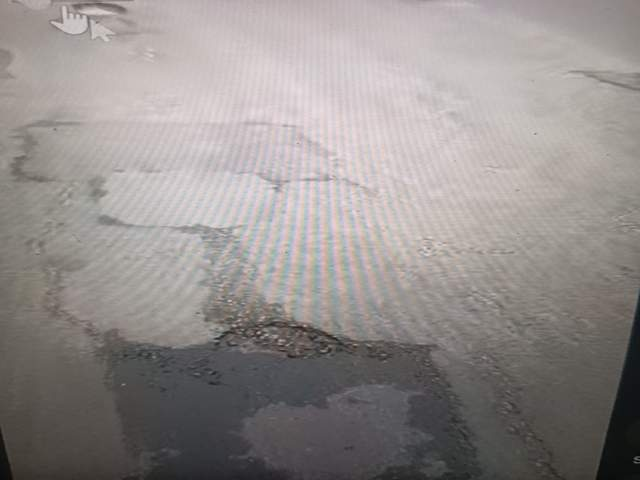pothole: (112, 403, 334, 480)
